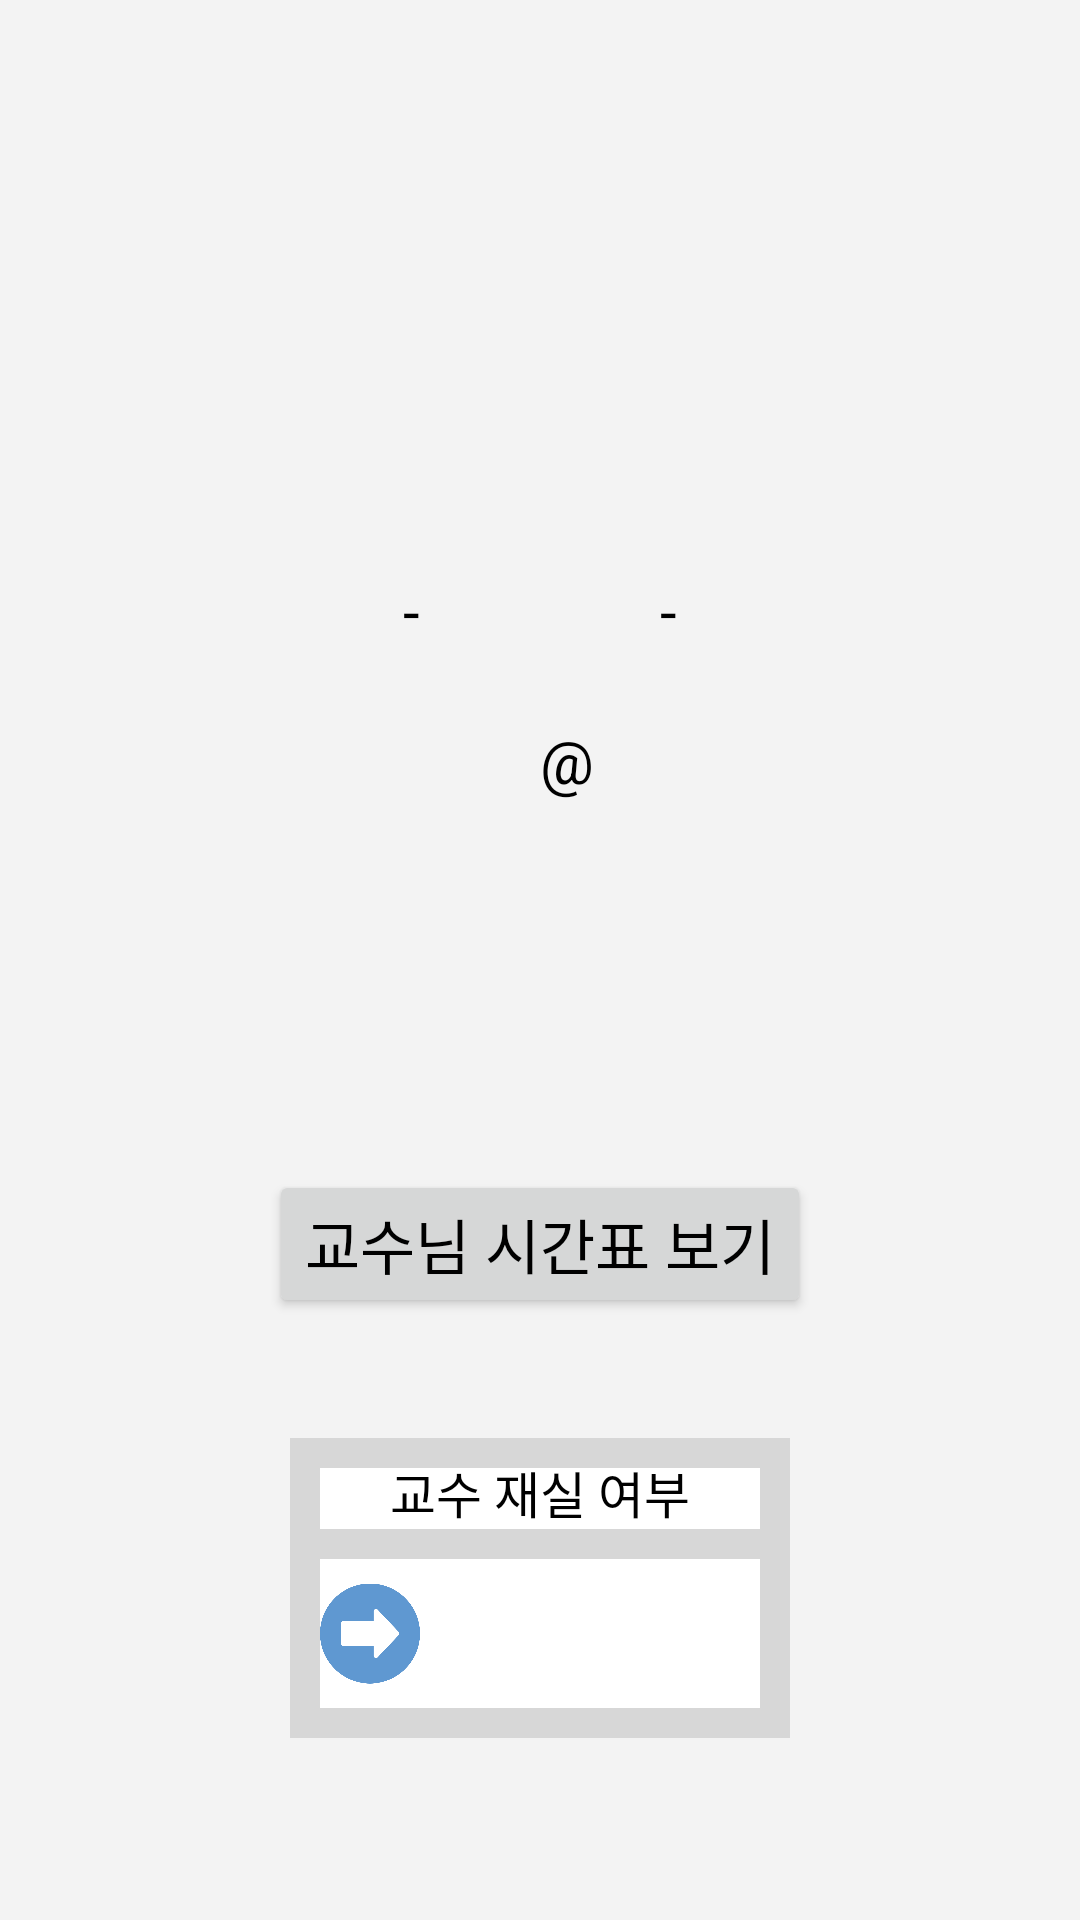

Point at icon controls on the screen. Image size 1080x1920, points as (x=x, y=y).
arrow: (x=370, y=1633)
